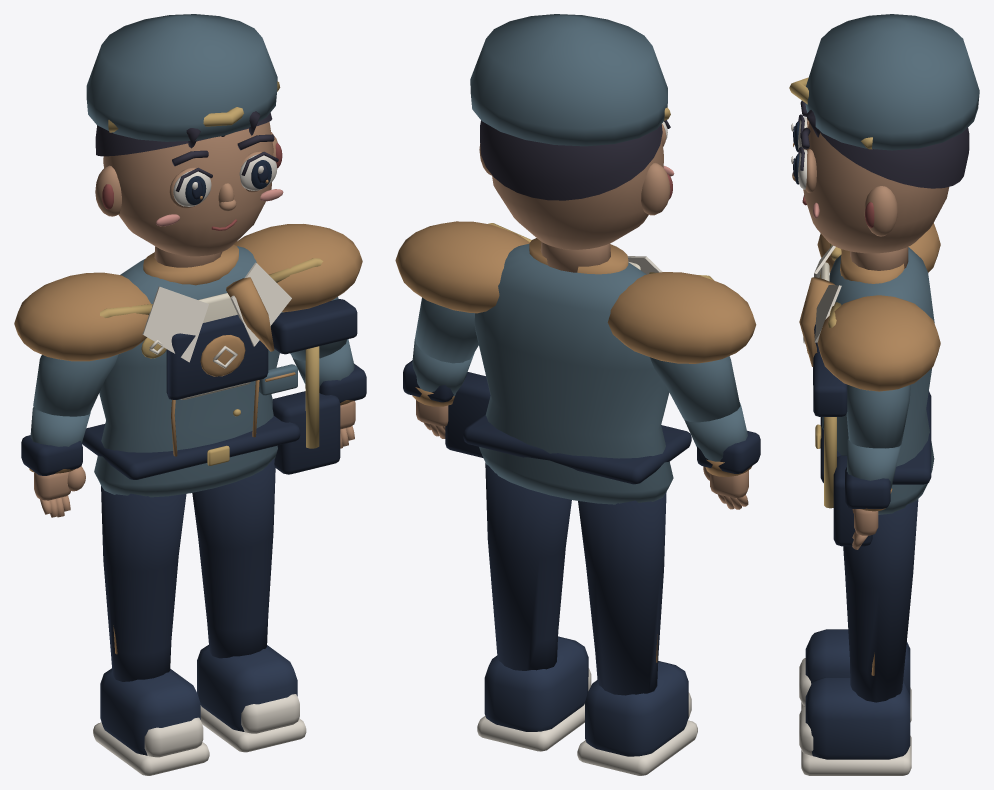
Rendered from npc_survivalridge_lieutenant_2.glb.
3 views of the same model, side by side, from view 1: azimuth 30°, elevation 25°; view 2: azimuth 150°, elevation 25°; view 3: azimuth 270°, elevation 25° (orthographic). The views are drawn at different scales.
Parts seen in each view (by area): view 1: figure.073; view 2: figure.073; view 3: figure.073.
Part boxes in pixels (box(x1,y1,x2,y2)): figure.073: box(14, 14, 366, 775); figure.073: box(395, 14, 760, 775); figure.073: box(789, 14, 979, 775).
Bounding box in the file's own units: 0.8572 × 1.72 × 0.4171.
